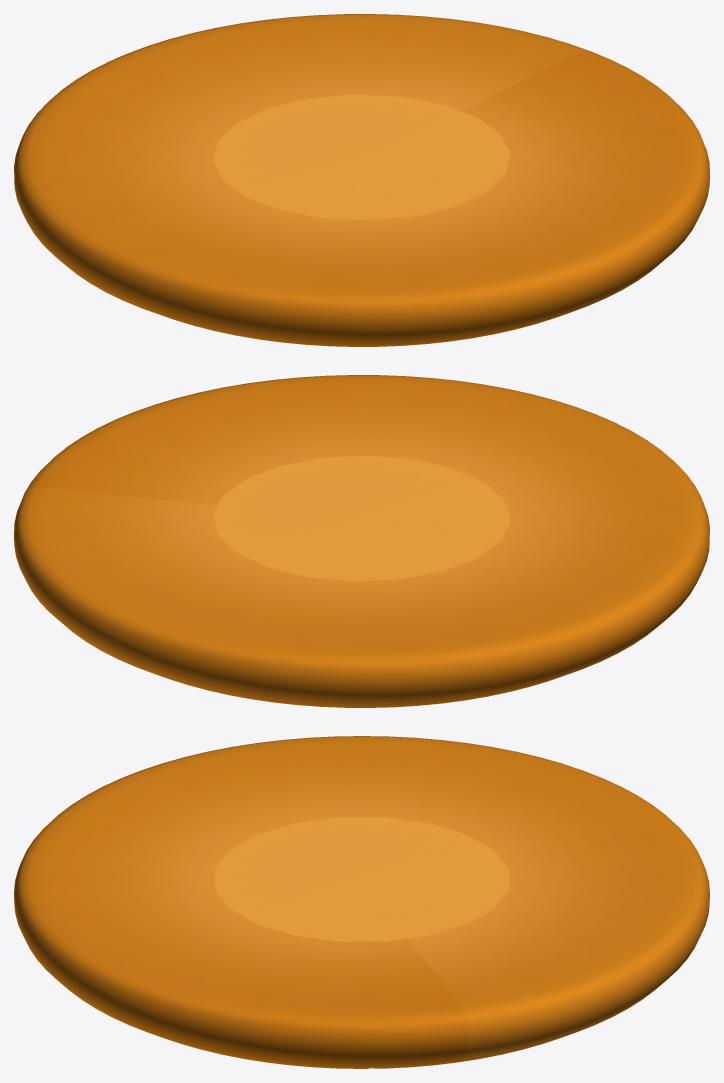
Rendered from BotBum.obj.
3 renders of one model, top to bottom at view 1: azimuth 30°, elevation 25°; view 2: azimuth 150°, elevation 25°; view 3: azimuth 270°, elevation 25°, orthographic.
Visible parts, largest first — view 1: polySurface32 polySurface18; view 2: polySurface32 polySurface18; view 3: polySurface32 polySurface18.
Boxes of the visible parts, left/top/right/bottom form: polySurface32 polySurface18: left=14, top=14, right=709, bottom=346; polySurface32 polySurface18: left=14, top=375, right=709, bottom=707; polySurface32 polySurface18: left=14, top=736, right=709, bottom=1068.
Size of the model in its own units: 1.94 by 0.3465 by 1.94.
Materials: 1 (1 with a texture image).
